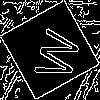W: (25, 25, 82, 83)
